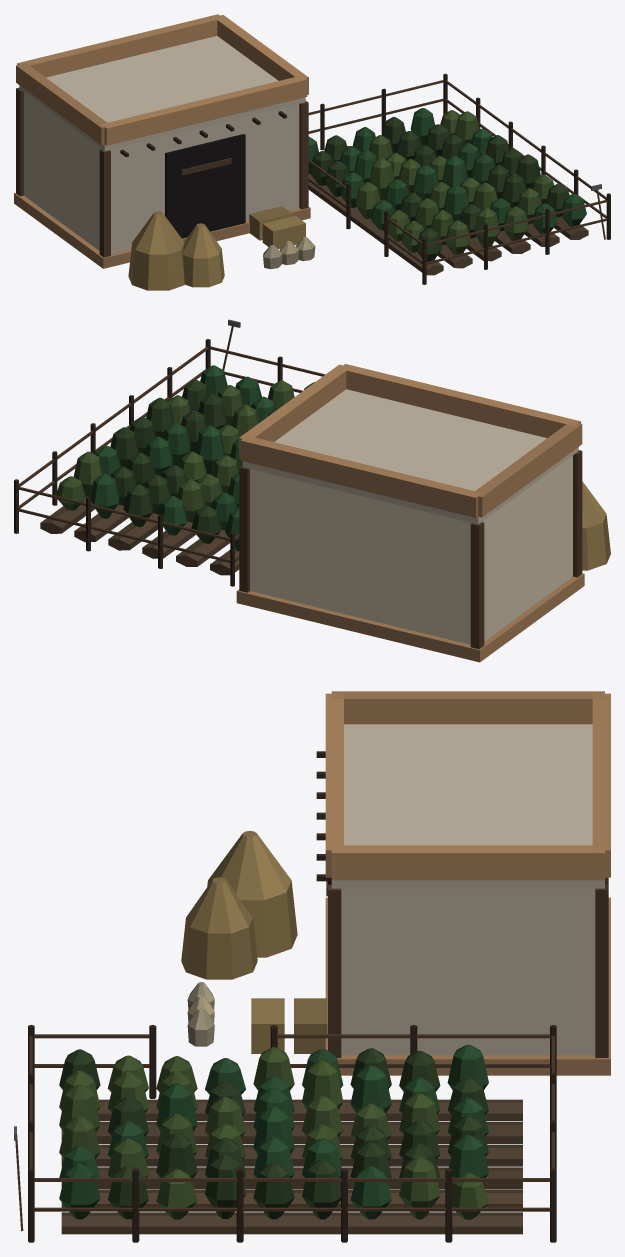
The model's file is walk_sunborn_plantation.glb.
The picture shows the model from 3 angles, top to bottom: view 1: azimuth 30°, elevation 25°; view 2: azimuth 150°, elevation 25°; view 3: azimuth 270°, elevation 25°; orthographic projection. The views are drawn at different scales.
Visible parts, largest first — view 1: walk_sunborn_plantation, walk_sunborn_plantation_roof; view 2: walk_sunborn_plantation, walk_sunborn_plantation_roof; view 3: walk_sunborn_plantation, walk_sunborn_plantation_roof.
Boxes of the visible parts, x1,y1,x2,y2 form: walk_sunborn_plantation: (14,73,610,290); walk_sunborn_plantation_roof: (16,14,308,150); walk_sunborn_plantation: (14,319,610,662); walk_sunborn_plantation_roof: (239,364,582,524); walk_sunborn_plantation: (14,751,610,1242); walk_sunborn_plantation_roof: (325,691,610,888).
Size of what is drawn, in the model's own units: 12.6 by 4.24 by 9.84.
Materials: 2 (2 with a texture image).
